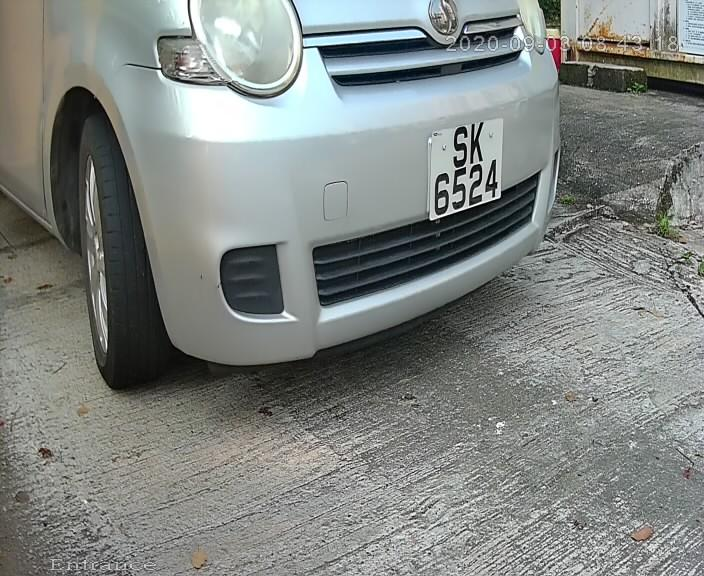Car: (16, 1, 607, 409)
License Plate: (419, 101, 510, 240)
